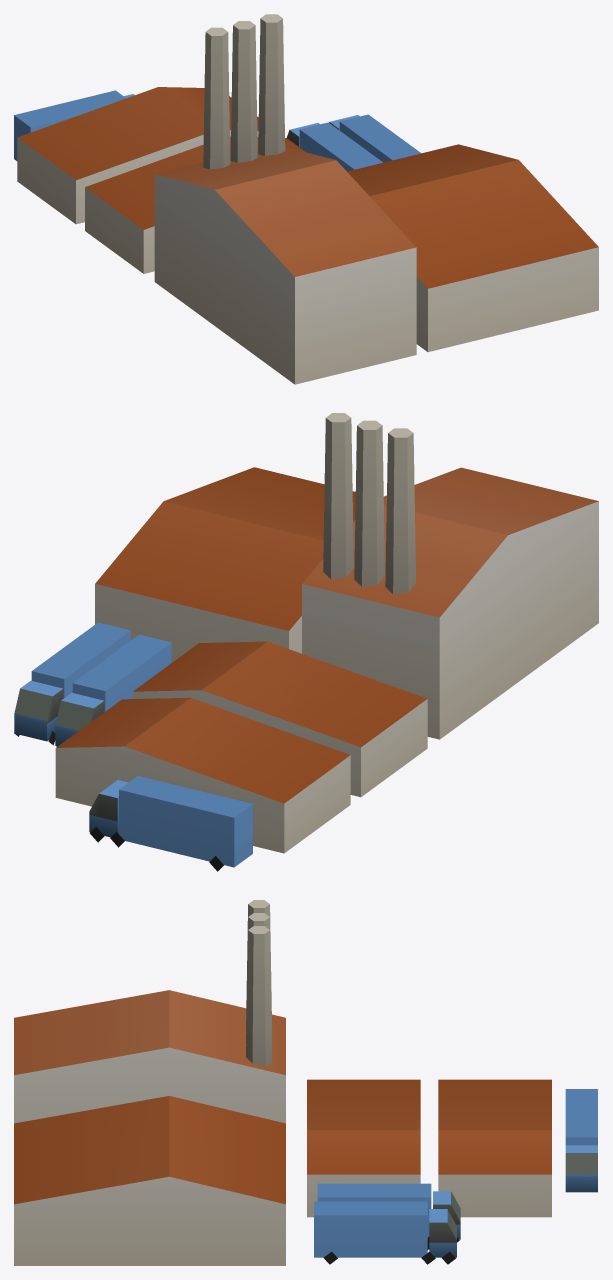
Rendered from SM_Blockout_Factory_01.fbx.
3 views of the same model, one above another, from view 1: azimuth 30°, elevation 25°; view 2: azimuth 150°, elevation 25°; view 3: azimuth 270°, elevation 25° (orthographic). The views are drawn at different scales.
Parts seen in each view (by area): view 1: SM_Blockout_Factory_01; view 2: SM_Blockout_Factory_01; view 3: SM_Blockout_Factory_01.
Part boxes in pixels (<box>): SM_Blockout_Factory_01: <box>14,14,598,384</box>; SM_Blockout_Factory_01: <box>14,413,598,871</box>; SM_Blockout_Factory_01: <box>14,900,597,1265</box>.
Size of the model in its own units: 4 by 3.21 by 6.88.
